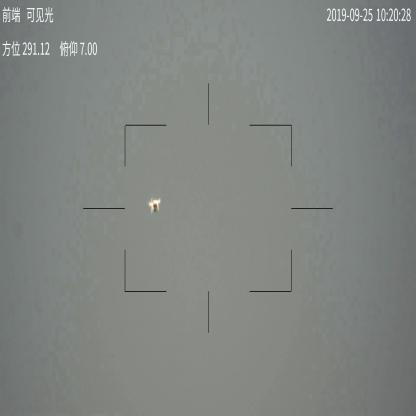uav: (146, 198, 162, 216)
